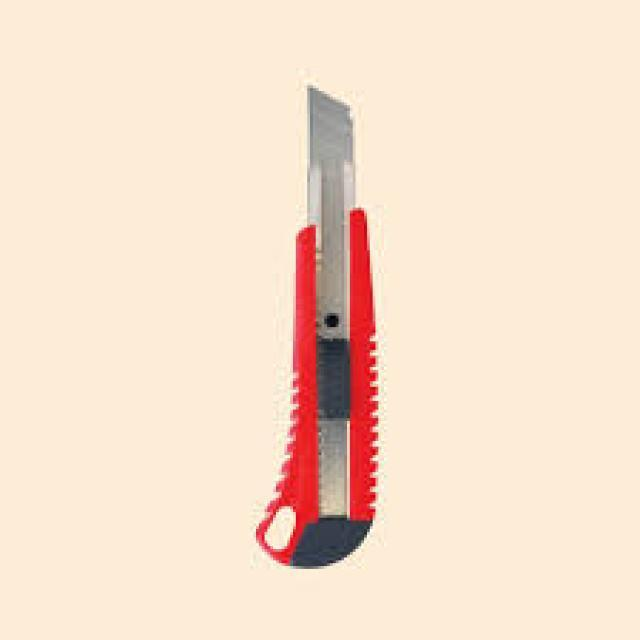cutter: (250, 69, 390, 571)
